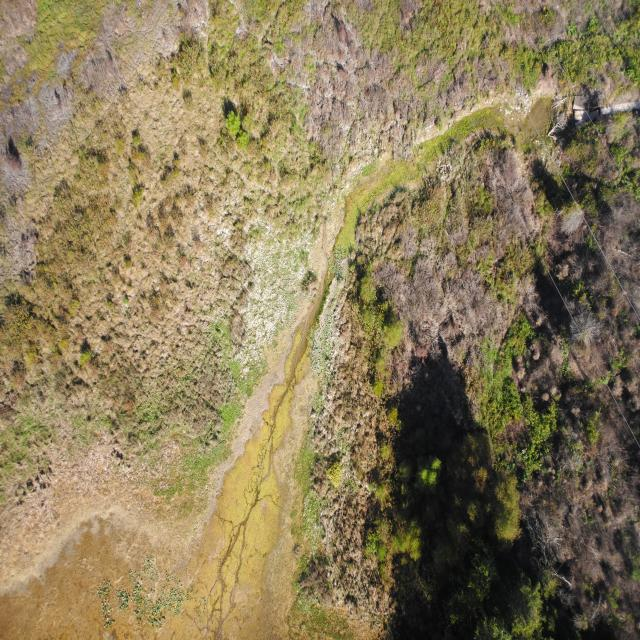Area of Interest: (476, 500, 566, 615)
